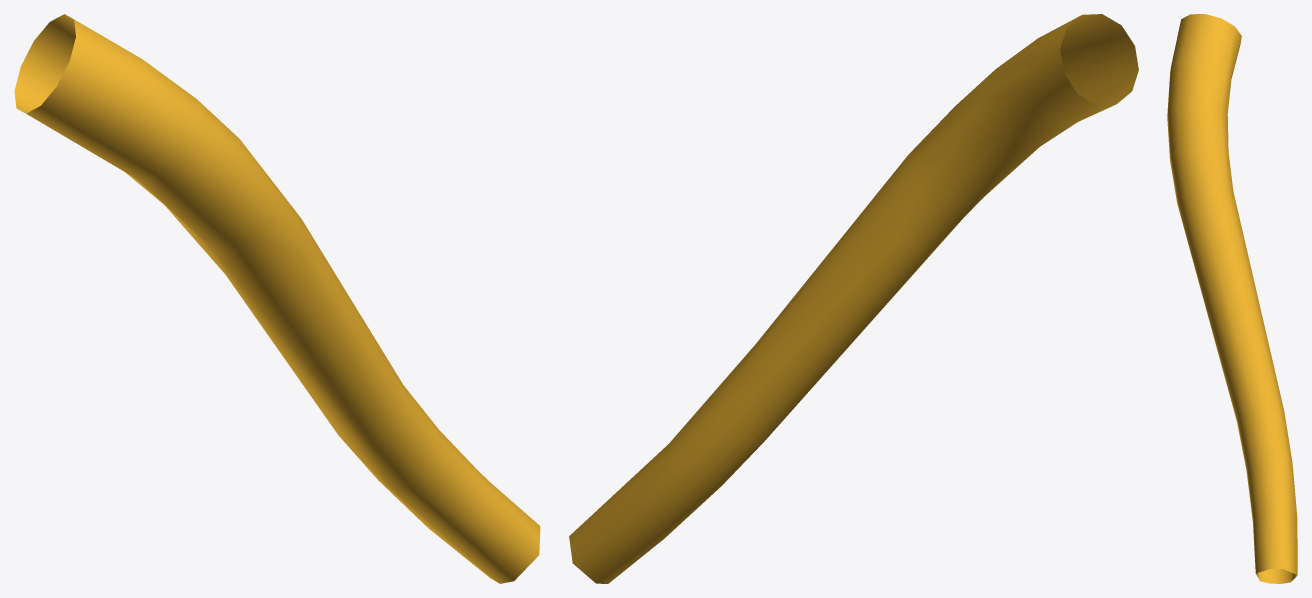
Rendered from nervoso-posterior-division-of-middle-trunk-of-brachial-plexus-l.glb.
3 views of the same model, side by side, from view 1: azimuth 30°, elevation 25°; view 2: azimuth 150°, elevation 25°; view 3: azimuth 270°, elevation 25° (orthographic). The views are drawn at different scales.
Visible parts, largest first — view 1: Posterior division of middle trunk of brachial plexus.l; view 2: Posterior division of middle trunk of brachial plexus.l; view 3: Posterior division of middle trunk of brachial plexus.l.
Boxes of the visible parts, x1,y1,x2,y2 form: Posterior division of middle trunk of brachial plexus.l: (14, 14, 540, 583); Posterior division of middle trunk of brachial plexus.l: (569, 14, 1138, 583); Posterior division of middle trunk of brachial plexus.l: (1167, 14, 1297, 583).
Bounding box in the file's own units: 0.0182 × 0.0218 × 0.00599.
